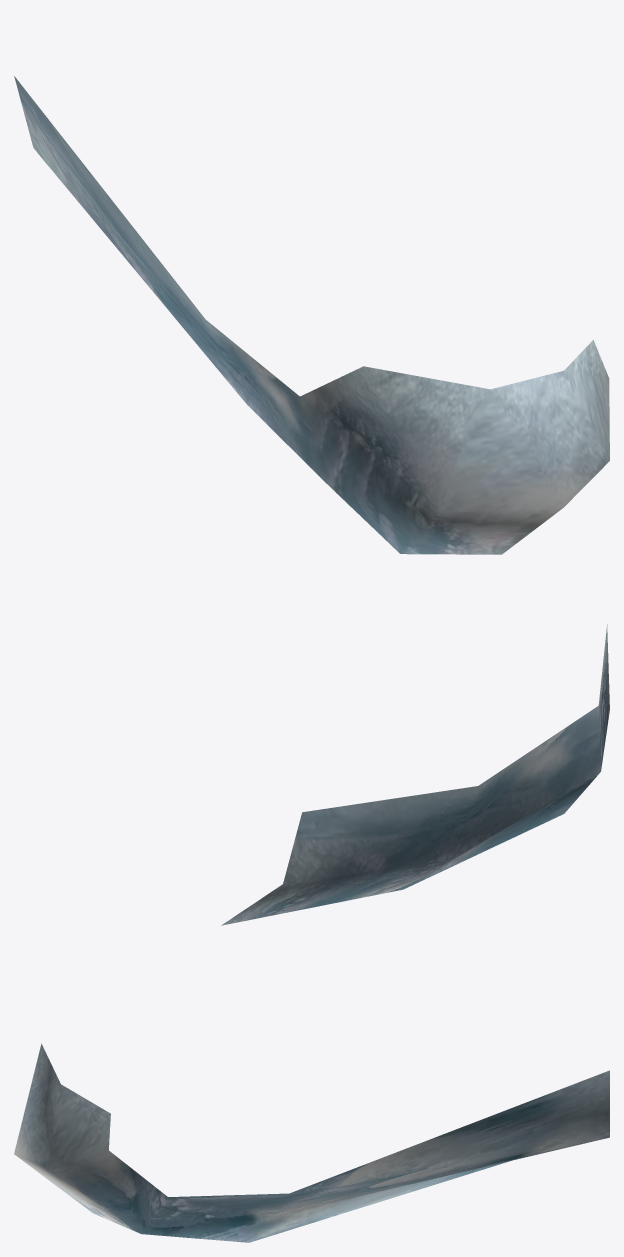
3 views of the same model, one above another, from view 1: azimuth 30°, elevation 25°; view 2: azimuth 150°, elevation 25°; view 3: azimuth 270°, elevation 25° (orthographic). The views are drawn at different scales.
Parts seen in each view (by area): view 1: model_Object46; view 2: model_Object46; view 3: model_Object46.
Boxes of the visible parts, x1,y1,x2,y2 form: model_Object46: (14, 76, 609, 554); model_Object46: (221, 624, 609, 925); model_Object46: (14, 1043, 609, 1242).
Bounding box in the file's own units: 2.89 × 2.37 × 5.75.
1 material, 1 textured.
